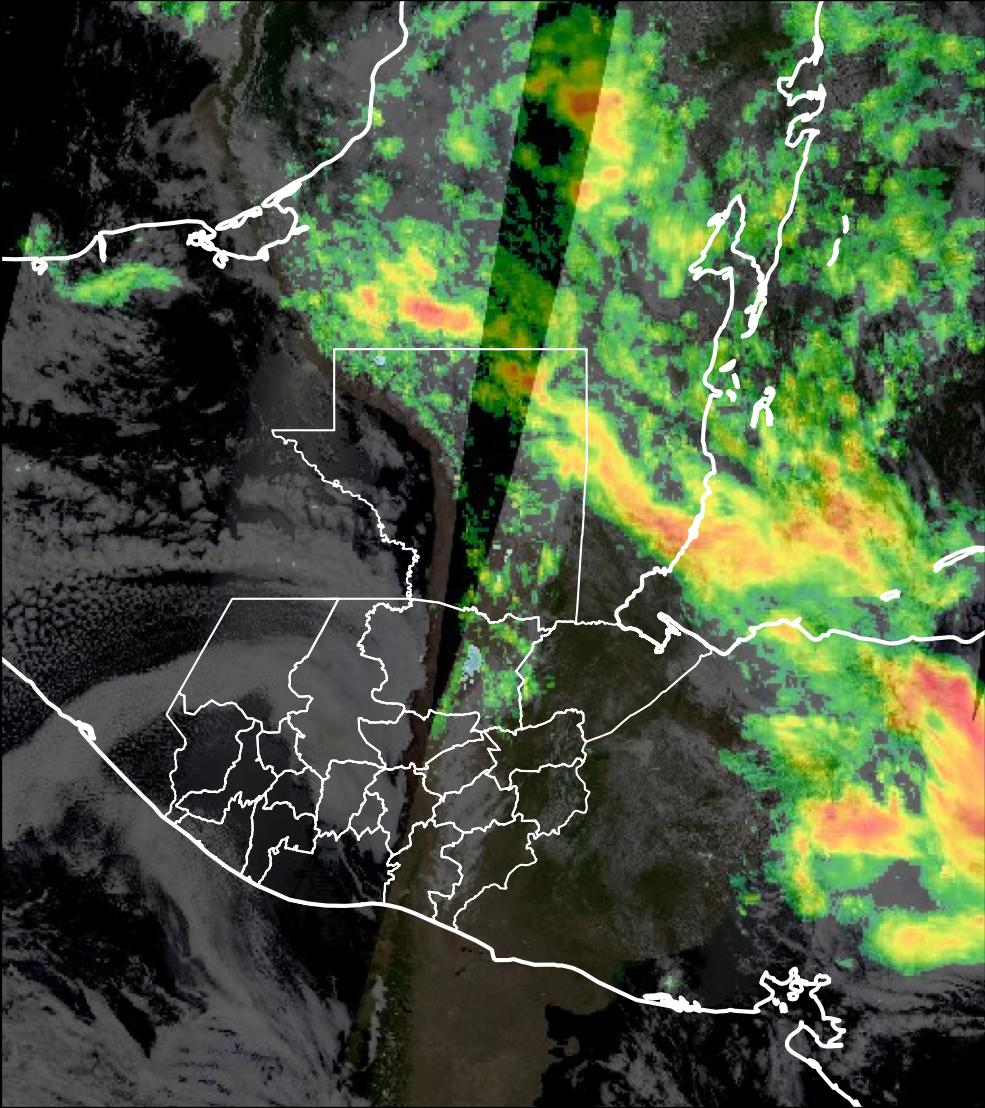precipitacion: (893, 654, 985, 873), (562, 83, 639, 169), (393, 293, 482, 336)
